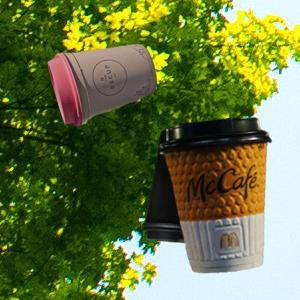cup: (160, 114, 271, 273), (48, 43, 157, 126)
